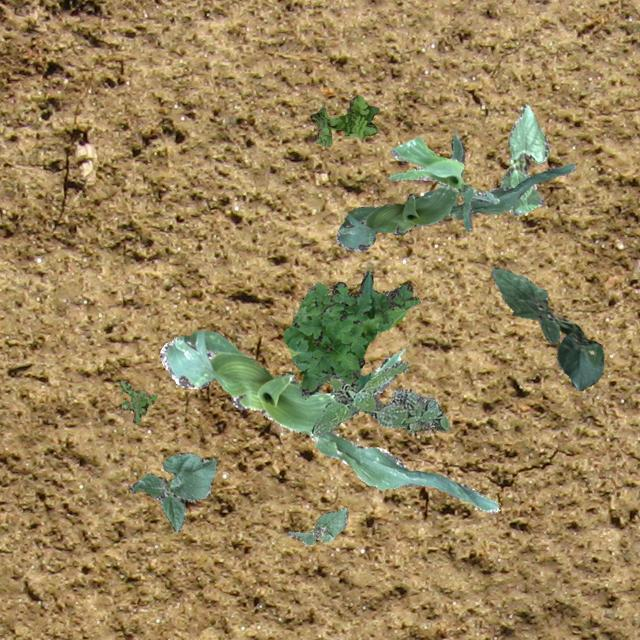crop: (158, 330, 496, 512), (334, 130, 574, 250), (490, 266, 602, 389), (387, 136, 498, 230), (128, 452, 215, 530), (498, 104, 548, 214), (288, 506, 346, 544)
weed: (282, 270, 418, 394), (311, 360, 448, 436), (308, 94, 378, 146), (118, 379, 156, 424)
